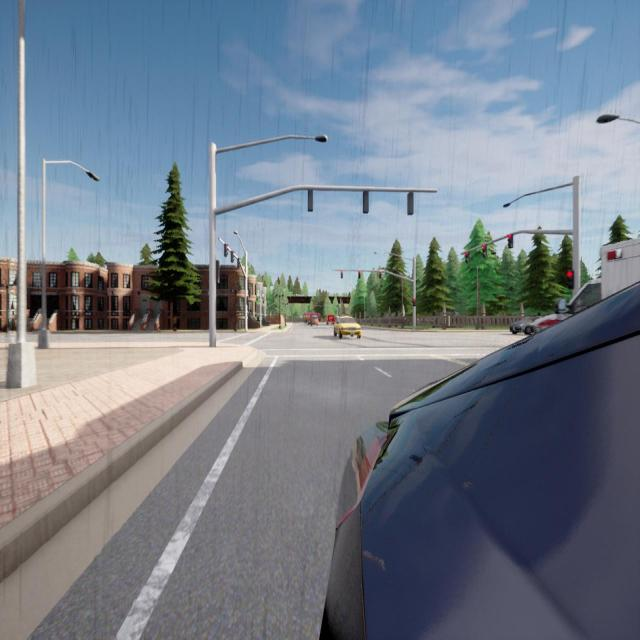Vehicle: (322, 277, 640, 640), (555, 239, 640, 314), (522, 314, 572, 334), (334, 316, 361, 338), (510, 316, 541, 334), (303, 312, 321, 322), (326, 315, 334, 324), (311, 316, 318, 326)
traffic_light: (567, 271, 574, 288), (408, 192, 413, 214), (308, 190, 313, 210), (364, 191, 368, 212), (217, 260, 220, 282), (508, 235, 513, 248), (482, 245, 487, 257), (224, 244, 228, 256), (231, 251, 234, 262), (237, 258, 240, 268), (358, 271, 361, 278), (413, 299, 416, 306), (466, 252, 468, 262), (341, 271, 343, 278), (380, 271, 381, 279)
